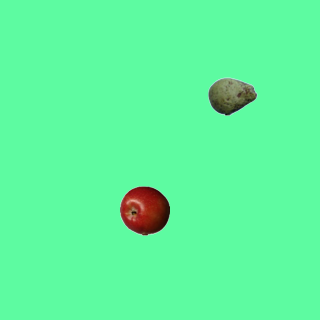Apple Braeburn: (119, 185, 169, 235)
Pear Stone: (207, 71, 257, 121)
